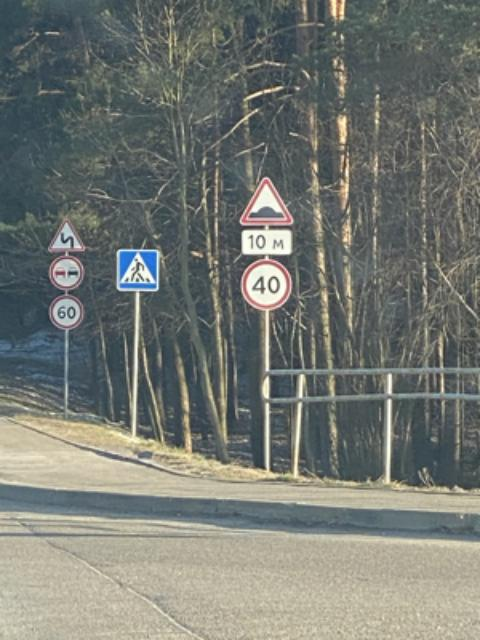crosswalk-sign: (115, 248, 161, 292)
